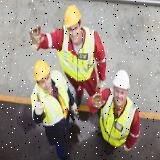Helmet: (64, 4, 82, 29), (112, 68, 130, 90), (34, 59, 51, 82)
Vest: (99, 86, 138, 149), (56, 26, 96, 83)
